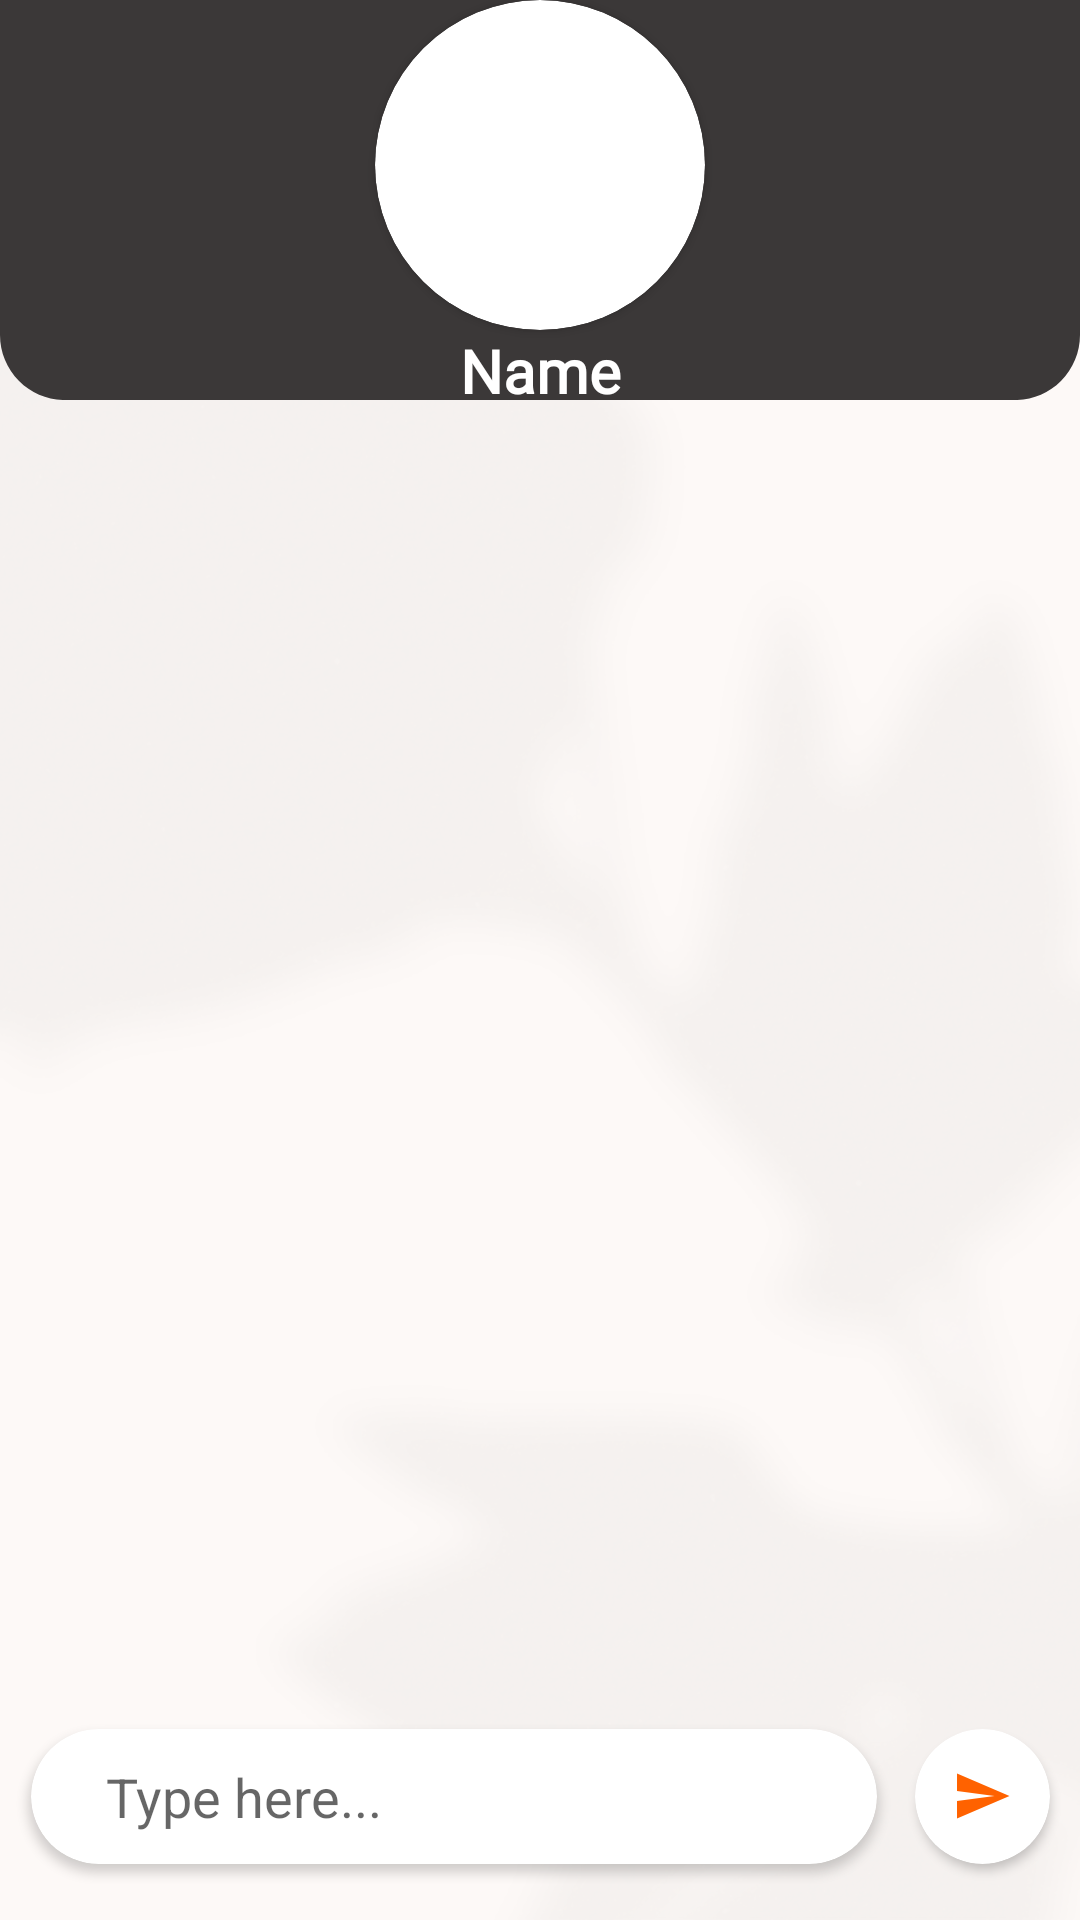

Icon click points for this 1080px×1920px phone screenshot, format (x,y):
send: (983,1796)
